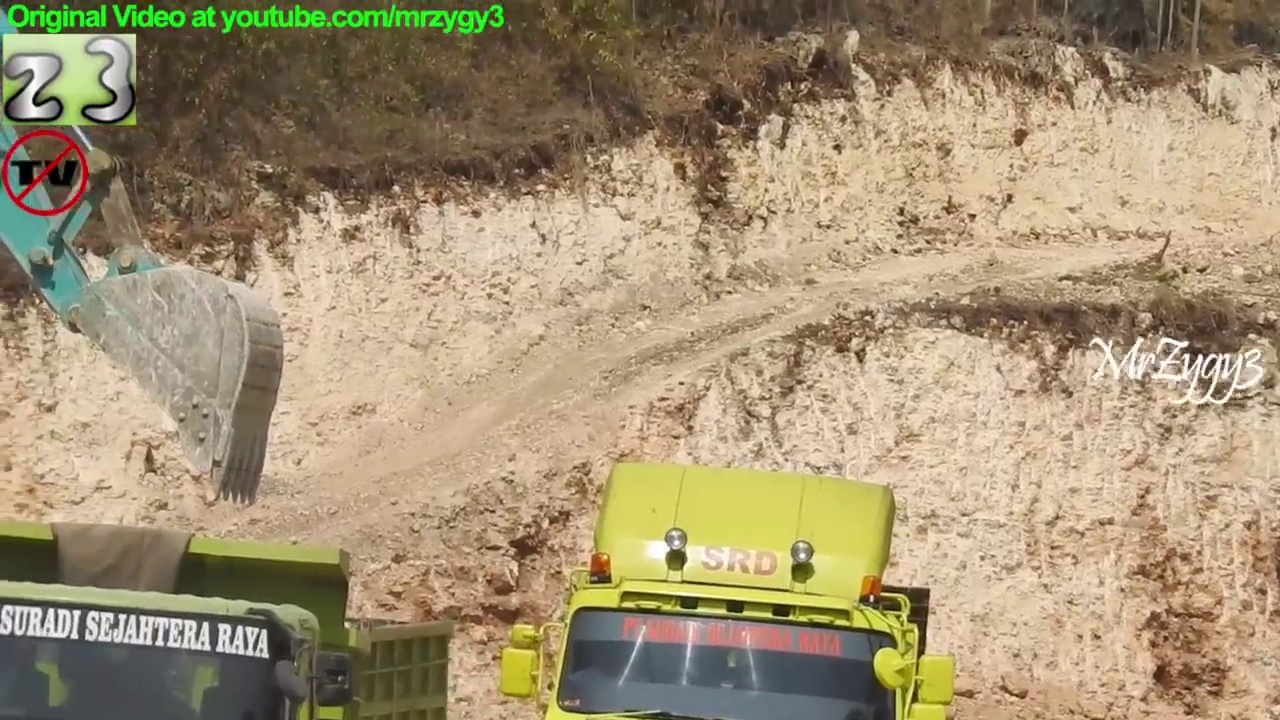excavator: (1, 10, 291, 512)
truck: (496, 457, 963, 720), (1, 512, 464, 720)
